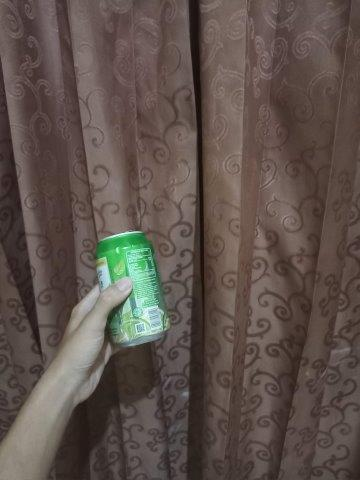kaleng: (96, 230, 170, 347)
